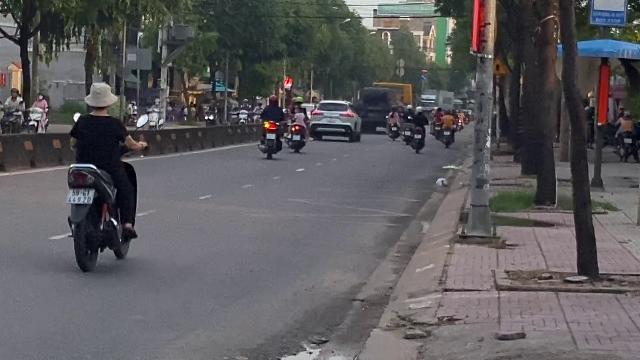licenseplate: (68, 189, 92, 203)
motorcyclist: (59, 80, 143, 272)
nohelmet: (83, 82, 117, 114)
